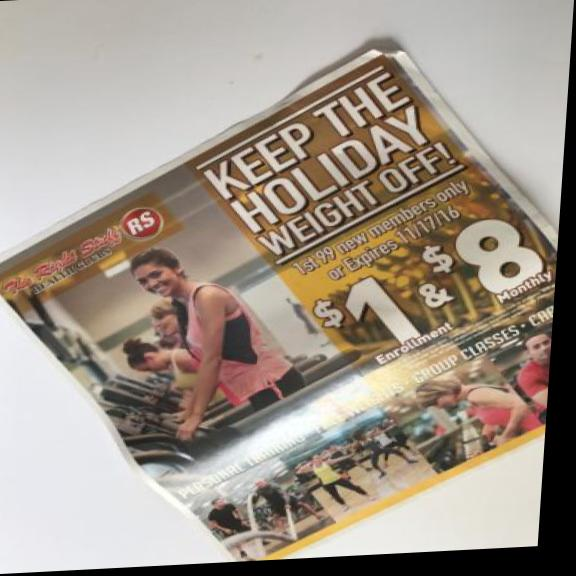Kertas: (0, 31, 572, 573)
